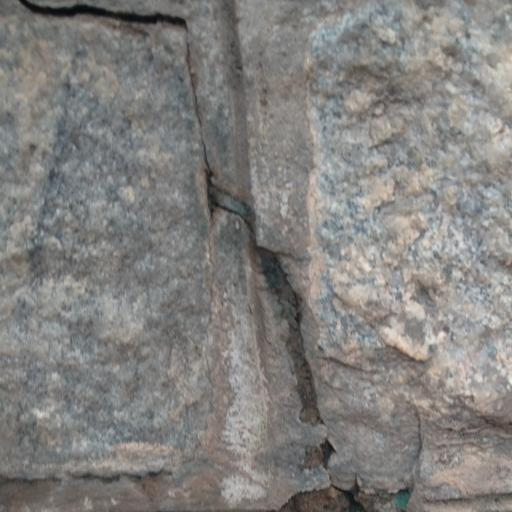major_crack: (4, 0, 366, 512)
